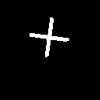single_crochet: (30, 18, 68, 56)
